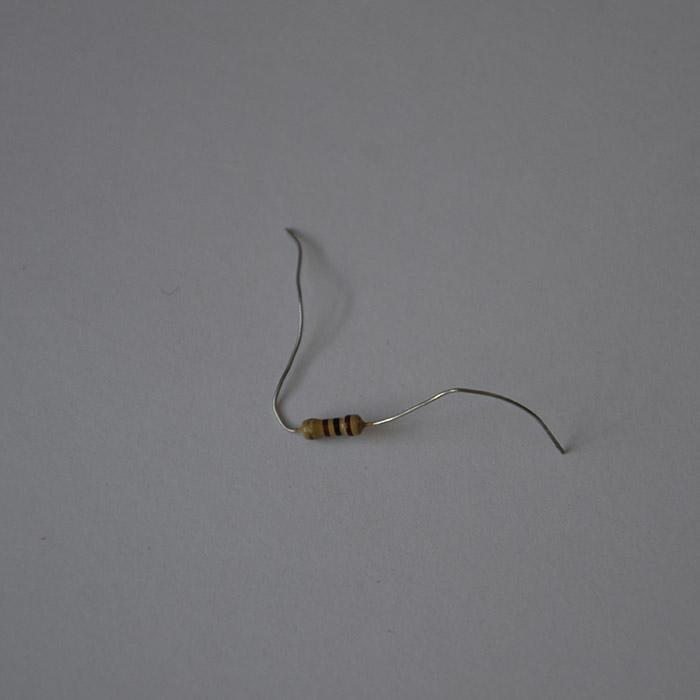resistor: (298, 413, 366, 438)
